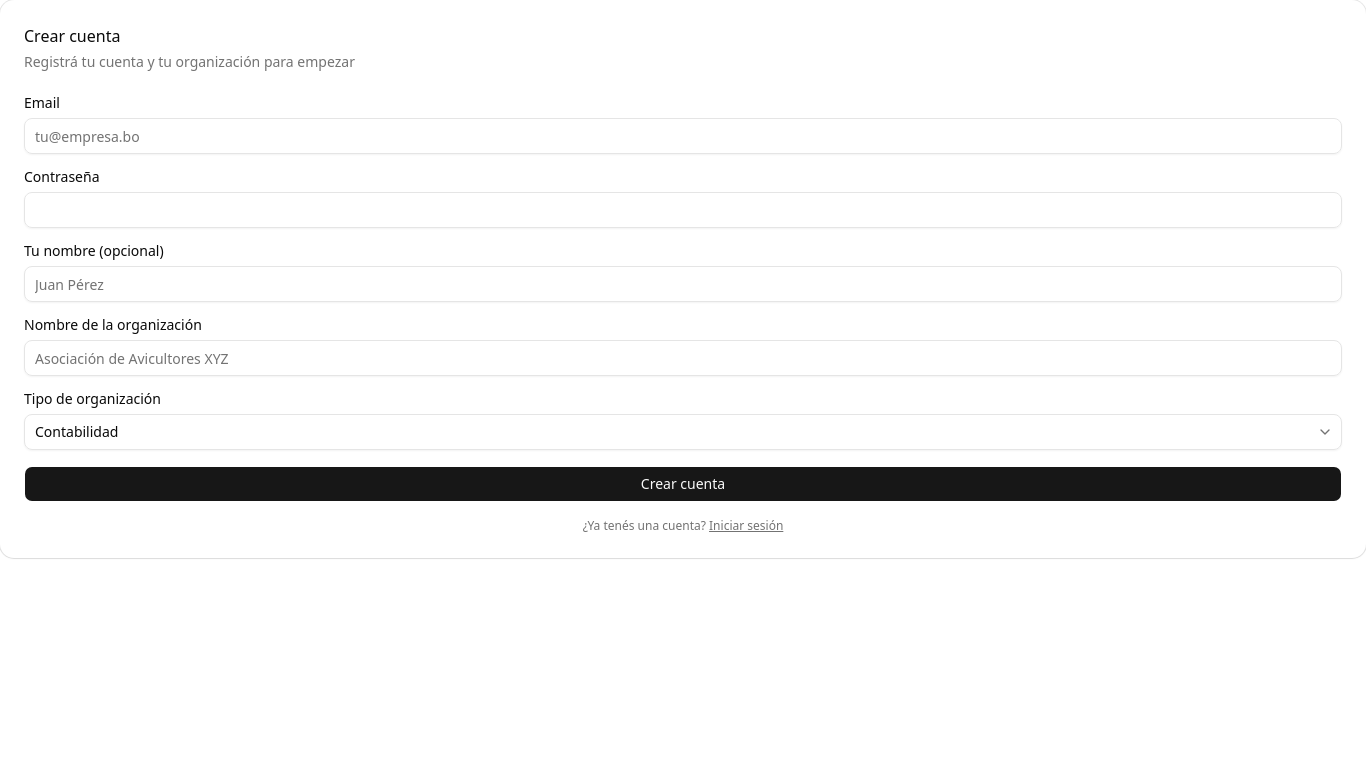
Scenario: RegisterForm › muestra error si el password tiene menos de 8 caracteres
The width and height of the screenshot is (1366, 768).
Type "a@b.bo" into the field labelled "Email" at (683, 136), box [24,118,1342,154]
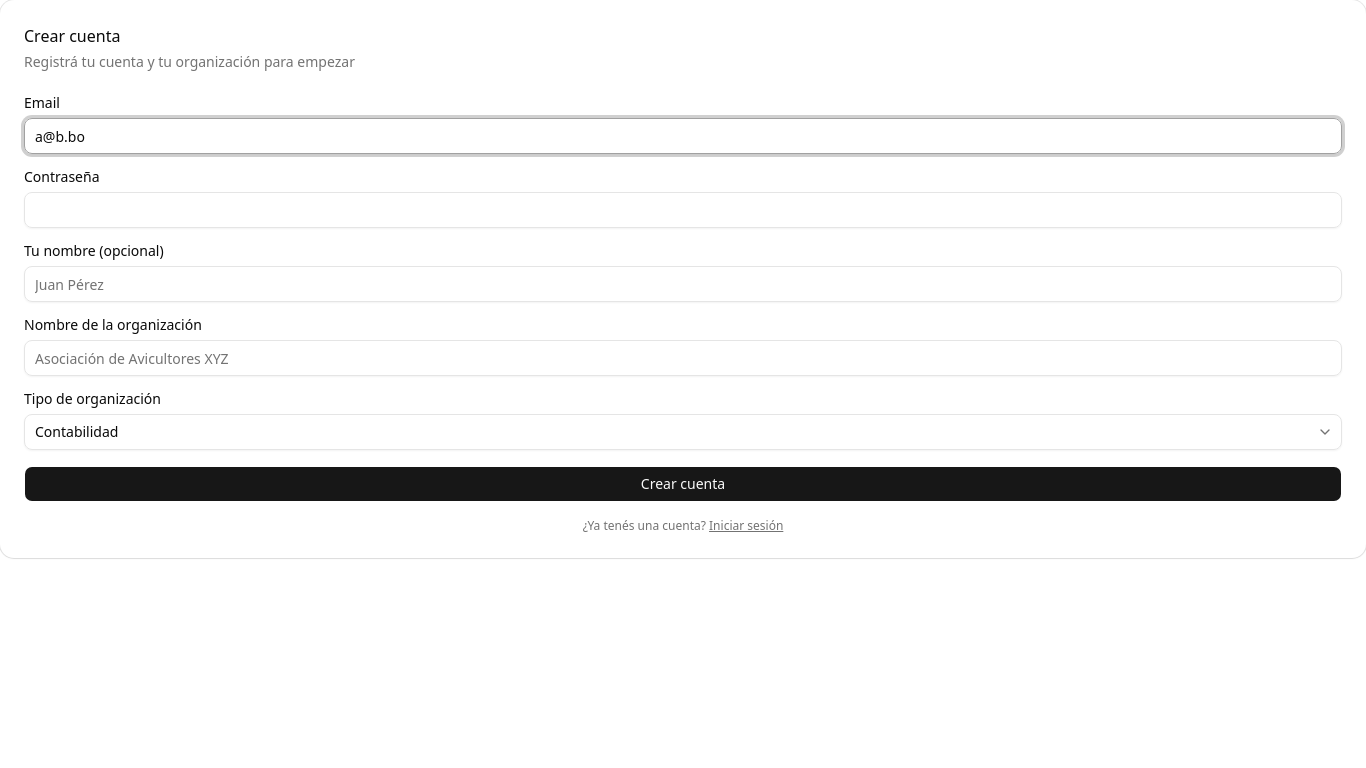
Type "123" into the password field labelled "Contraseña" at (683, 210), box [24,192,1342,228]
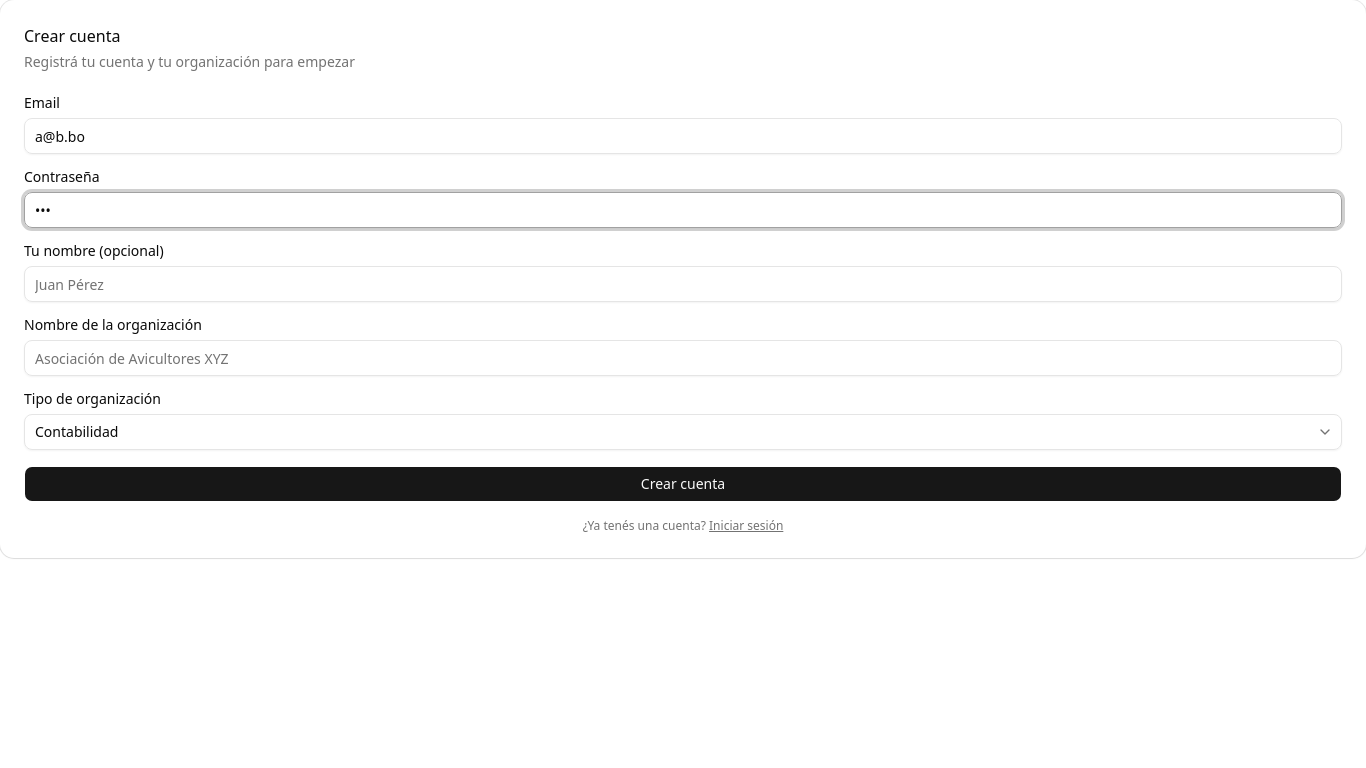
Type "Mi Asociación" into the field labelled "Nombre de la organización" at (683, 358), box [24,340,1342,376]
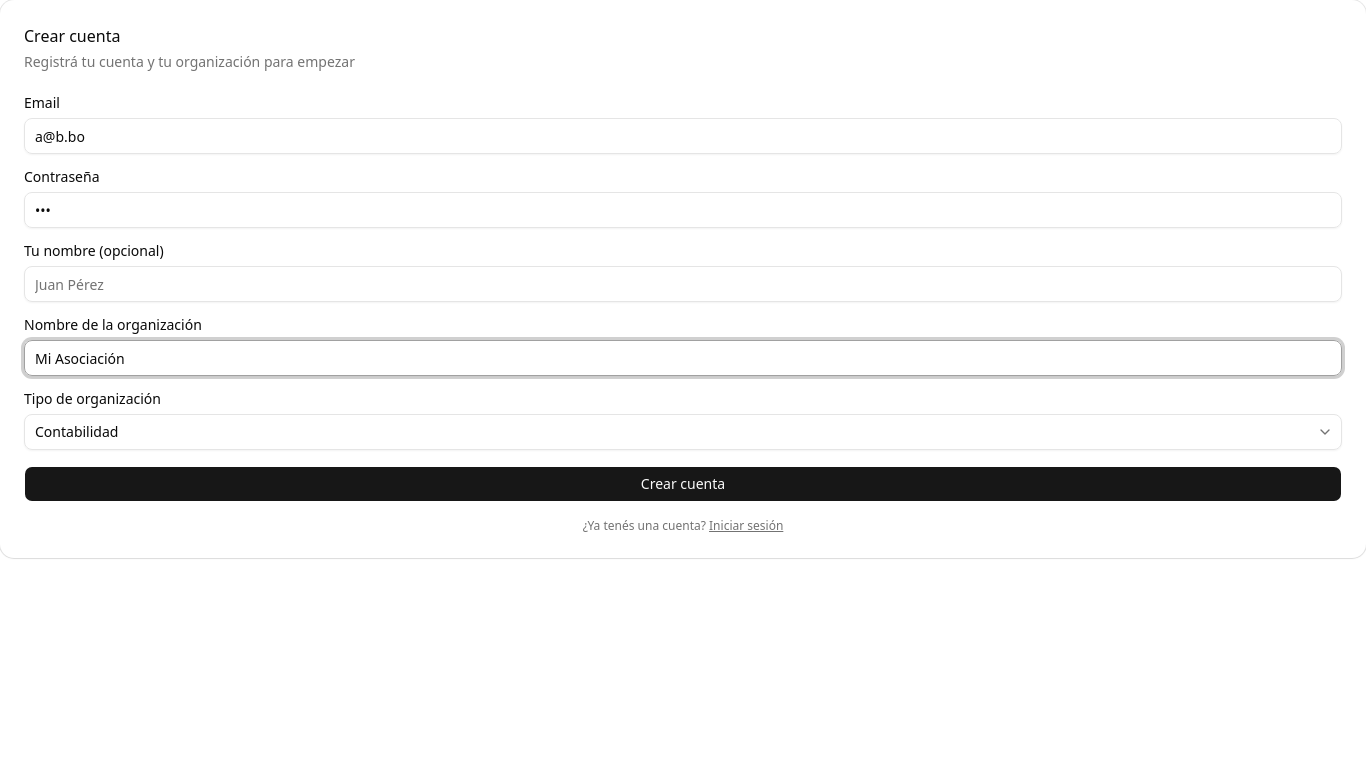
Click the button "Crear cuenta" at (683, 484), box [24,466,1342,502]
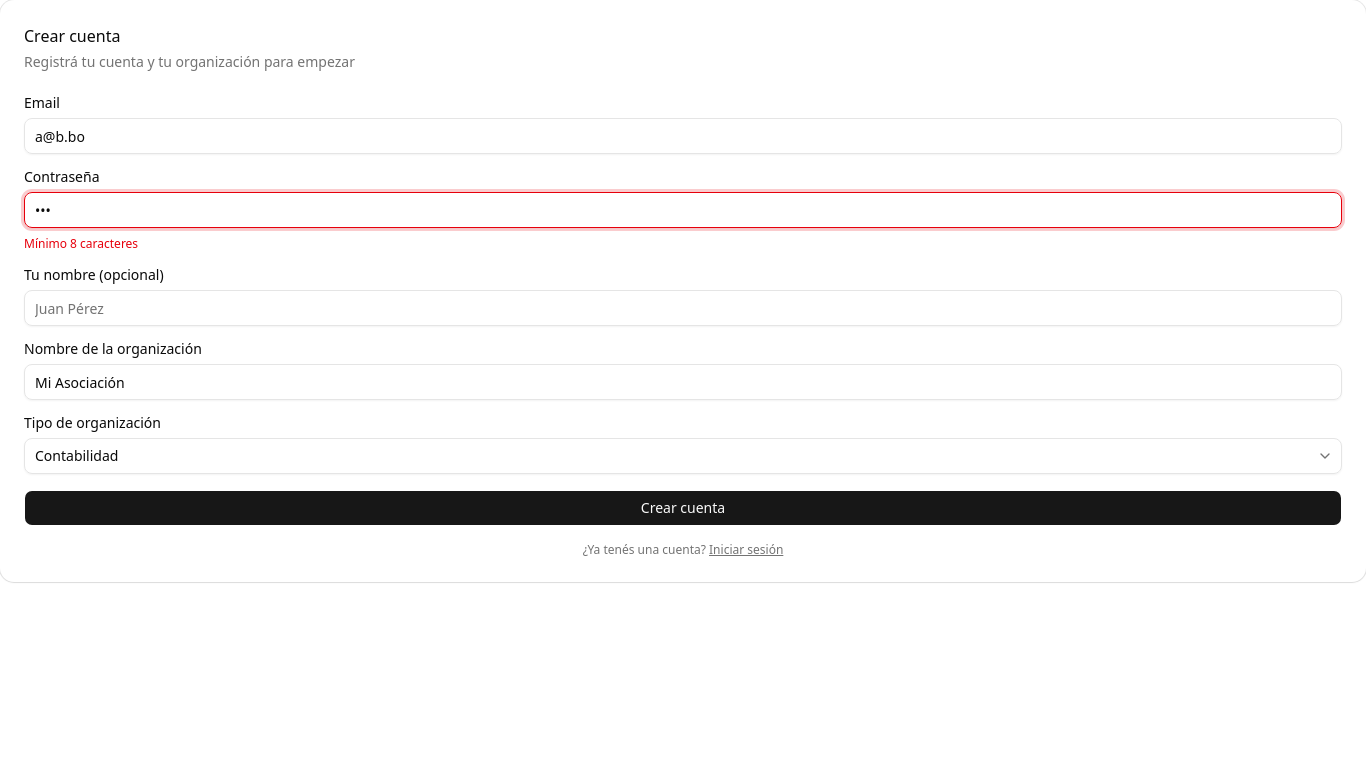
Check: the text "Mínimo 8 caracteres" is shown, box [24,235,138,252]
